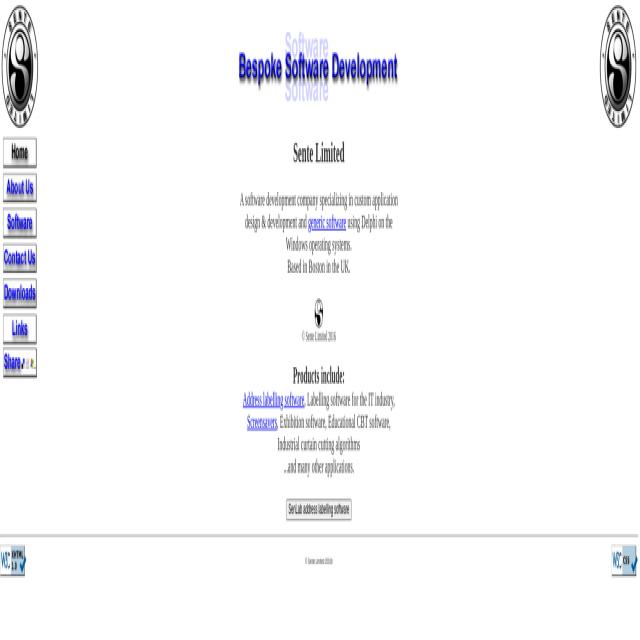button: (239, 30, 399, 103), (1, 2, 39, 130), (3, 348, 36, 378), (314, 298, 324, 330)
field: (286, 498, 352, 520)
